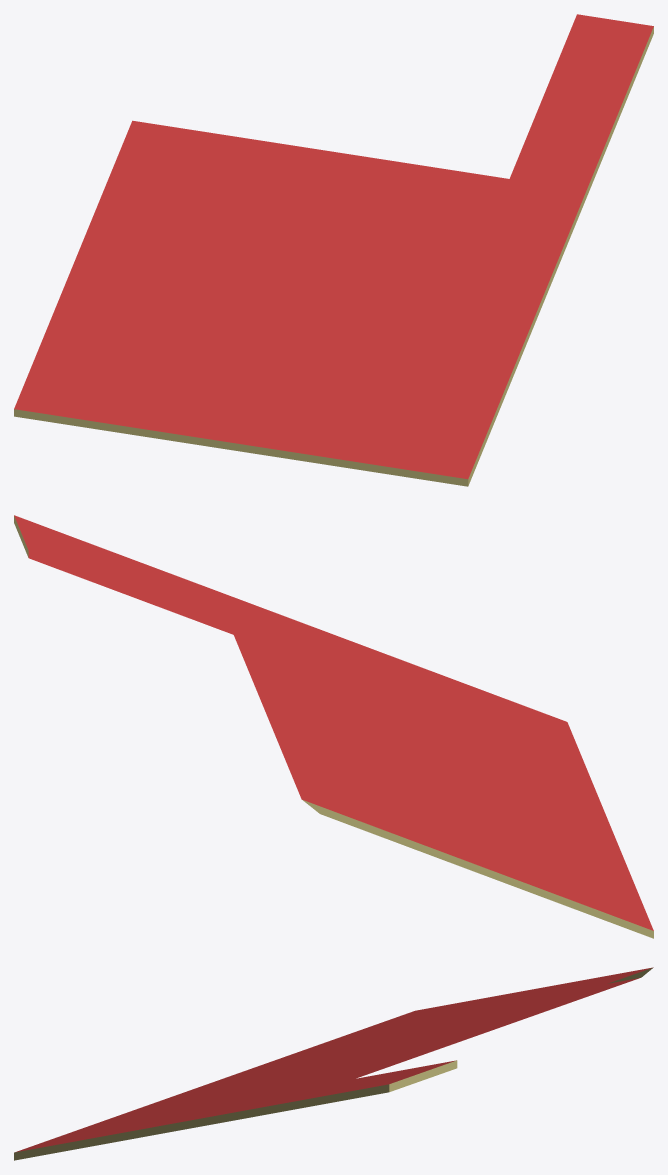
The picture shows the model from 3 angles, top to bottom: view 1: azimuth 30°, elevation 25°; view 2: azimuth 150°, elevation 25°; view 3: azimuth 270°, elevation 25°; orthographic projection. The views are drawn at different scales.
Size of the model in its own units: 8.84 by 7.21 by 3.31.
